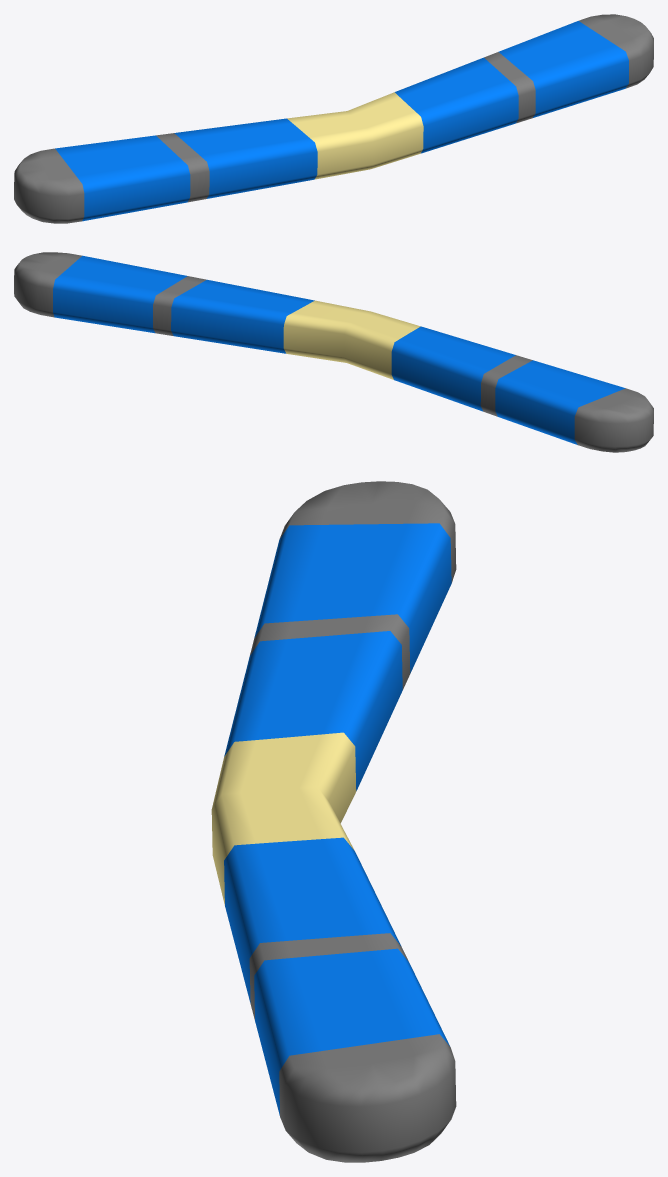
File: Indian_weapon.fbx
The picture shows the model from 3 angles, top to bottom: view 1: azimuth 30°, elevation 25°; view 2: azimuth 150°, elevation 25°; view 3: azimuth 270°, elevation 25°; orthographic projection. The views are drawn at different scales.
Visible parts, largest first — view 1: Indian_weapon; view 2: Indian_weapon; view 3: Indian_weapon.
Part boxes in pixels (x1,y1,x2,y2): Indian_weapon: [14, 14, 653, 223]; Indian_weapon: [14, 252, 653, 452]; Indian_weapon: [211, 481, 456, 1162].
Bounding box in the file's own units: 32.36 × 2.24 × 5.45.
